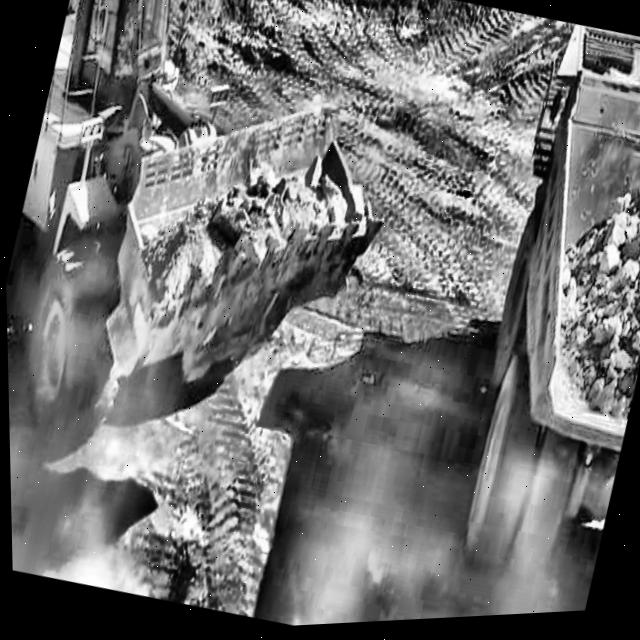buldozerpayloadergrader: (0, 0, 443, 510)
dump_truck: (412, 21, 640, 620)
